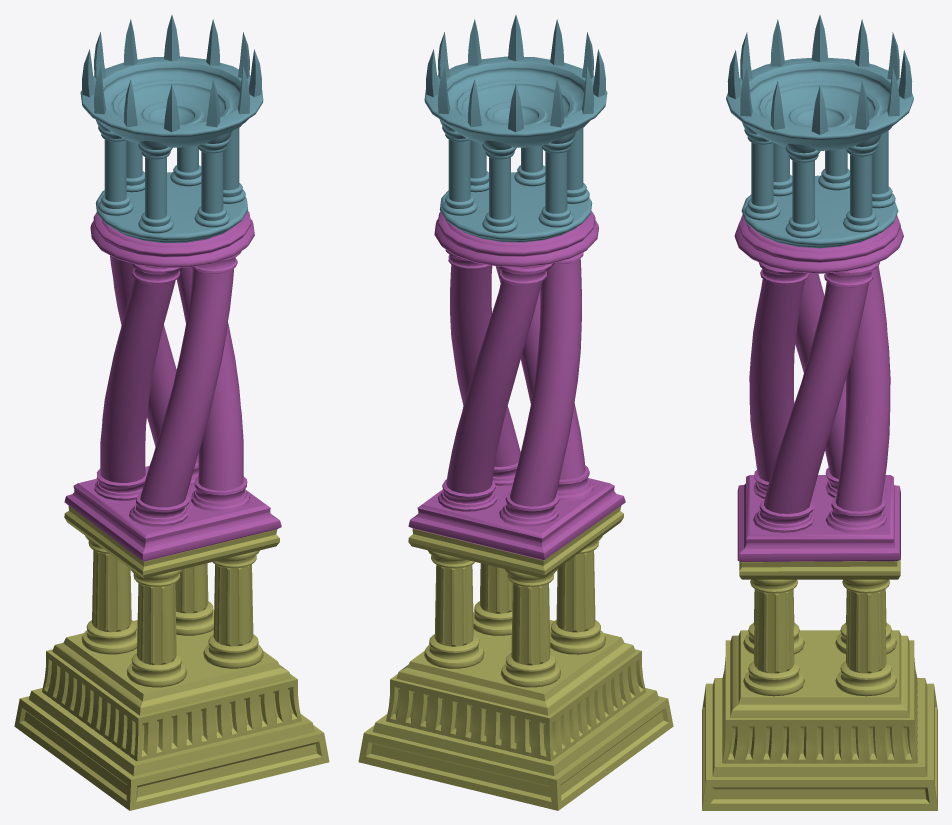
File: SM_Benchmark.fbx
The picture shows the model from 3 angles, left to right: view 1: azimuth 30°, elevation 25°; view 2: azimuth 150°, elevation 25°; view 3: azimuth 270°, elevation 25°; orthographic projection. The views are drawn at different scales.
Parts seen in each view (by area): view 1: group13_pCylinder2; view 2: group13_pCylinder2; view 3: group13_pCylinder2.
Part boxes in pixels (<box>): group13_pCylinder2: <box>14,15,329,810</box>; group13_pCylinder2: <box>358,15,673,810</box>; group13_pCylinder2: <box>702,15,937,810</box>.
Bounding box in the file's own units: 214 × 714 × 214.
